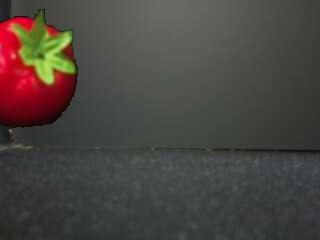Tomato: (1, 9, 78, 129)
